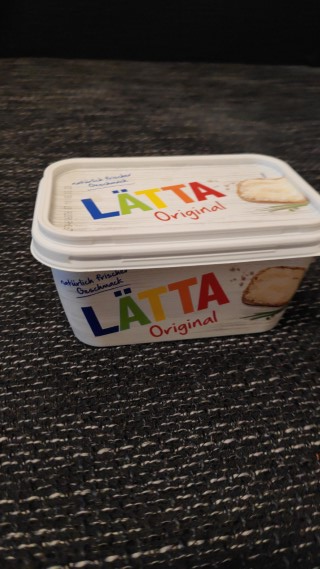laetta: (27, 154, 320, 348)
